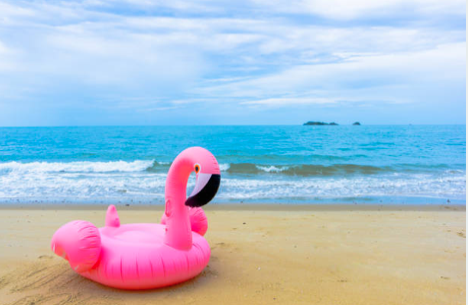Flamingo: (47, 145, 224, 292)
